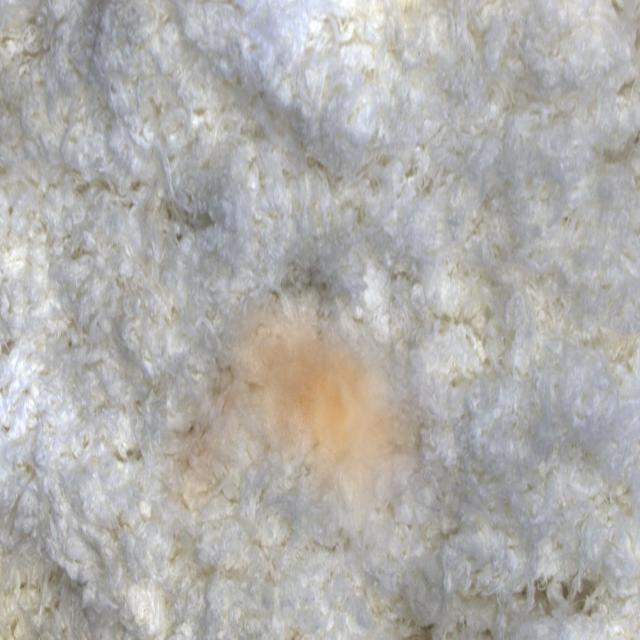dust: (161, 290, 453, 571)
